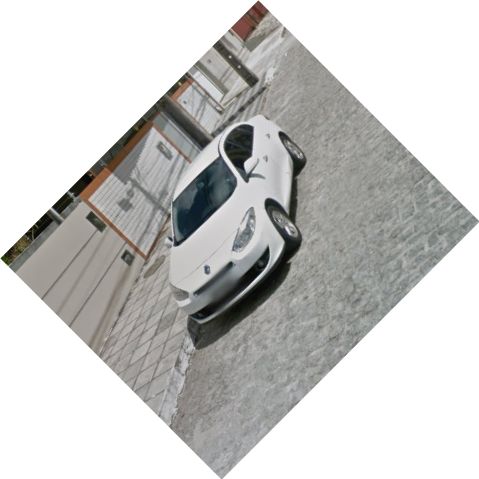car: (161, 111, 309, 328)
